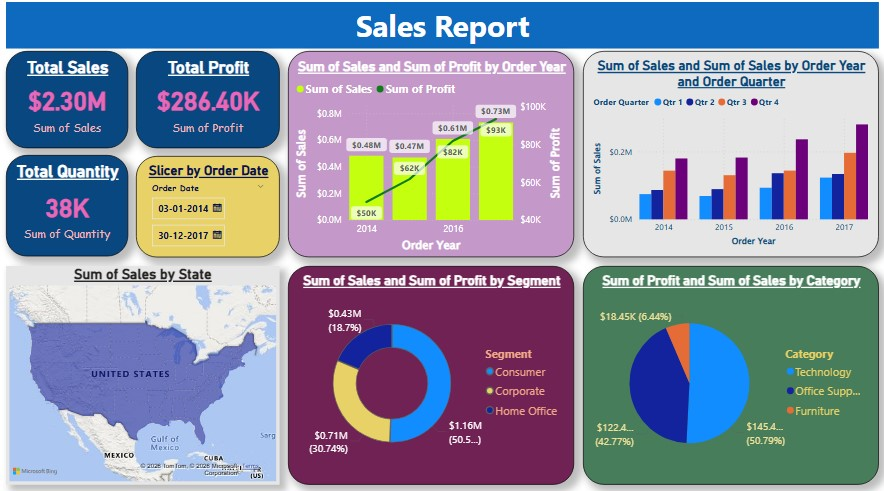

This screenshot's page, from the dashboard's own definition file:
{"tool":"powerbi","page":{"name":"Overall Sales","canvas":[1280,720],"ordinal":0},"visuals":[{"type":"textbox","box":[11.5,11.5,1257,67.4],"z":0},{"type":"card","title":"Total Sales","fields":{"Values":["Sum(Superstore.Sales)"]},"box":[11.5,82.2,175.8,139.7],"z":1000},{"type":"card","title":"Total Quantity","fields":{"Values":["Sum(Superstore.Quantity)"]},"box":[11.5,233.3,175.8,146.2],"z":2000},{"type":"card","title":"Total Profit","fields":{"Values":["Sum(Superstore.Profit)"]},"box":[198.8,82.2,207,139.7],"z":3000},{"type":"slicer","title":"Slicer by Order Date","fields":{"Values":["Superstore.Order Date"]},"box":[198.8,233.3,207,146.2],"z":4000},{"type":"lineStackedColumnComboChart","fields":{"Category":["Superstore.Order Year"],"Y":["Sum(Superstore.Sales)"],"Y2":["Sum(Superstore.Profit)"]},"box":[417.4,82.2,412.4,297.4],"z":5000},{"type":"clusteredColumnChart","fields":{"Series":["Superstore.Order Quarter"],"Category":["Superstore.Order Year"],"Y":["Sum(Superstore.Sales)"]},"box":[842.9,82.2,425.6,297.4],"z":6000},{"type":"filledMap","fields":{"Category":["Superstore.State"]},"box":[11.5,391.1,394.4,315.5],"z":7000},{"type":"donutChart","fields":{"Category":["Superstore.Segment"],"Y":["Sum(Superstore.Sales)"]},"box":[417.4,391.1,412.4,315.5],"z":8000},{"type":"pieChart","fields":{"Category":["Superstore.Category"],"Y":["Sum(Superstore.Profit)"]},"box":[842.9,391.1,425.6,315.5],"z":9000}]}

Visuals, with their boxes in screenshot pixels (x1, y1, x2, y2), scaled from the page's 1280x720 canvas onto the 884x491 screenshot:
textbox: (8, 8, 876, 54)
"Total Sales" card: (8, 56, 129, 151)
"Total Quantity" card: (8, 159, 129, 259)
"Total Profit" card: (137, 56, 280, 151)
"Slicer by Order Date" slicer: (137, 159, 280, 259)
lineStackedColumnComboChart - Superstore.Order Year x Sum(Superstore.Sales): (288, 56, 573, 259)
clusteredColumnChart - Superstore.Order Quarter x Superstore.Order Year: (582, 56, 876, 259)
filledMap - Superstore.State: (8, 267, 280, 482)
donutChart - Superstore.Segment x Sum(Superstore.Sales): (288, 267, 573, 482)
pieChart - Superstore.Category x Sum(Superstore.Profit): (582, 267, 876, 482)
